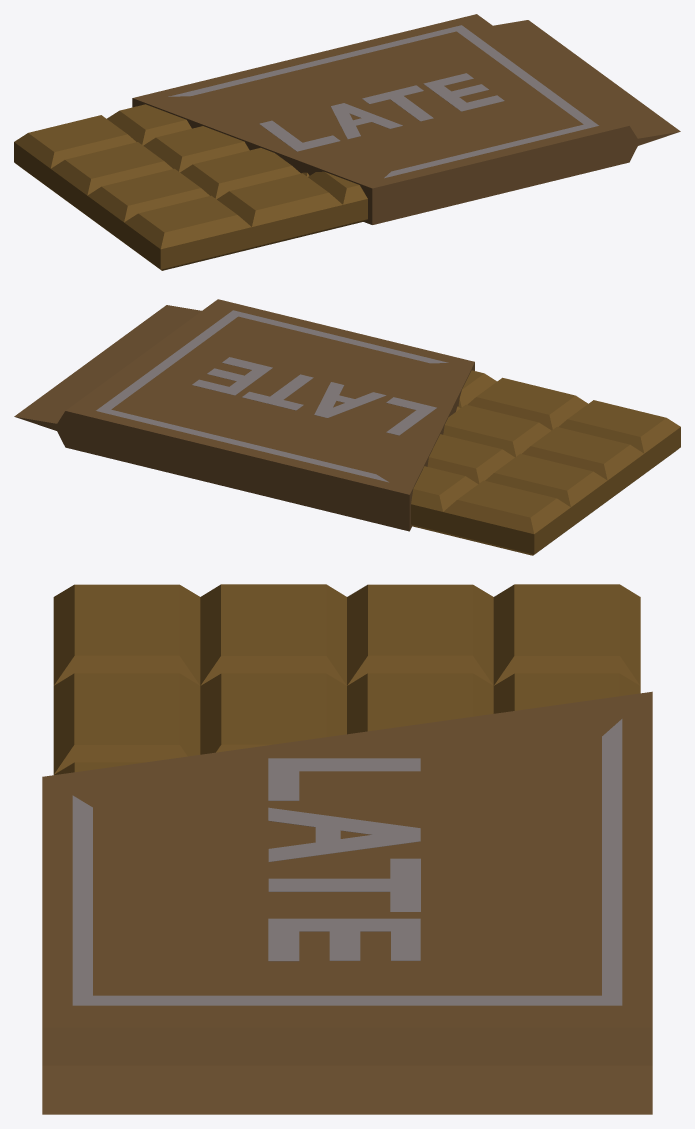
File: chocolate.fbx
The picture shows the model from 3 angles, top to bottom: view 1: azimuth 30°, elevation 25°; view 2: azimuth 150°, elevation 25°; view 3: azimuth 270°, elevation 25°; orthographic projection. The views are drawn at different scales.
Visible parts, largest first — view 1: Cube.005; view 2: Cube.005; view 3: Cube.005.
Part boxes in pixels (x1,y1,x2,y2): Cube.005: [14, 14, 680, 270]; Cube.005: [14, 299, 680, 555]; Cube.005: [42, 584, 652, 1114].
Size of the model in its own units: 20 by 1.36 by 10.22.
